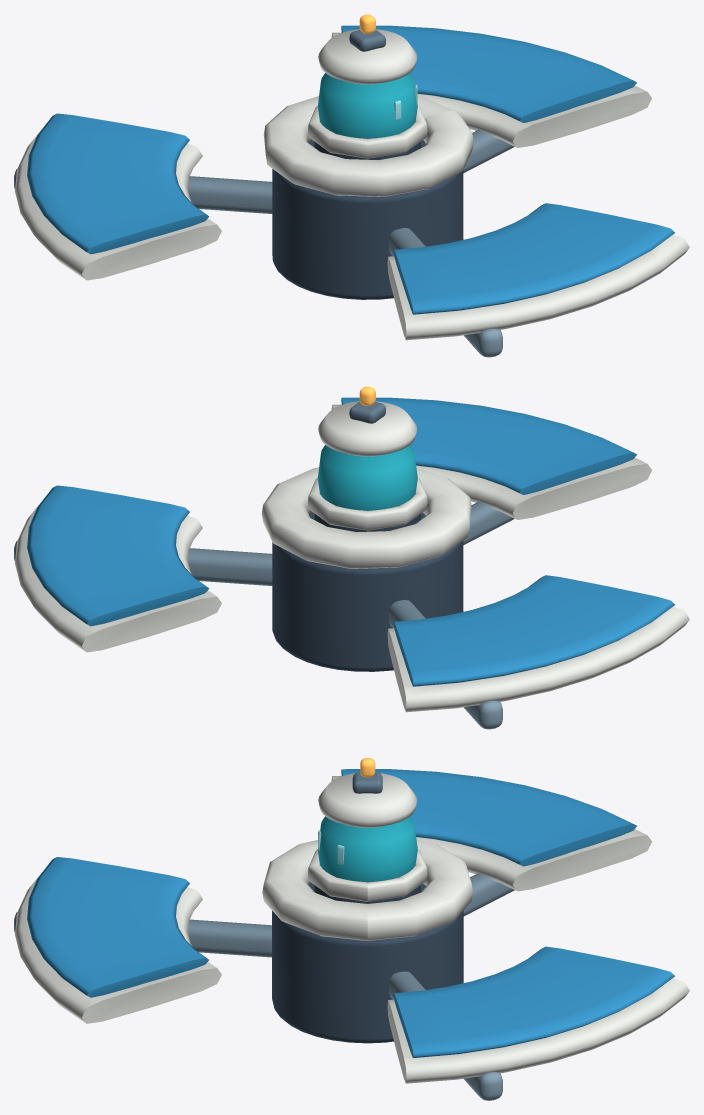
File: stellar_energy_array_lv2.glb
3 views of the same model, one above another, from view 1: azimuth 30°, elevation 25°; view 2: azimuth 150°, elevation 25°; view 3: azimuth 270°, elevation 25° (orthographic).
Parts seen in each view (by area): view 1: Structure; view 2: Structure; view 3: Structure.
Part boxes in pixels (left/top/right/bottom): Structure: left=14, top=14, right=689, bottom=357; Structure: left=14, top=386, right=689, bottom=729; Structure: left=14, top=758, right=689, bottom=1100.
Size of the model in its own units: 8.45 by 3.26 by 8.12.
